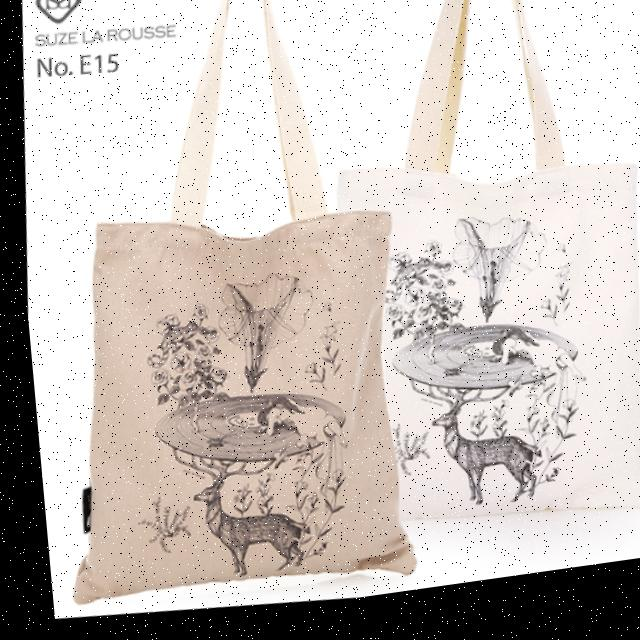ecobag: (20, 0, 443, 634)
